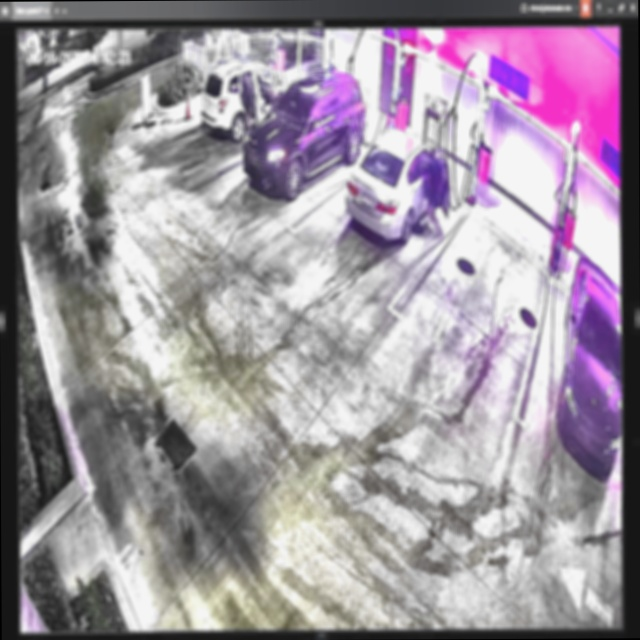Car: (245, 68, 366, 202), (346, 129, 452, 246)
